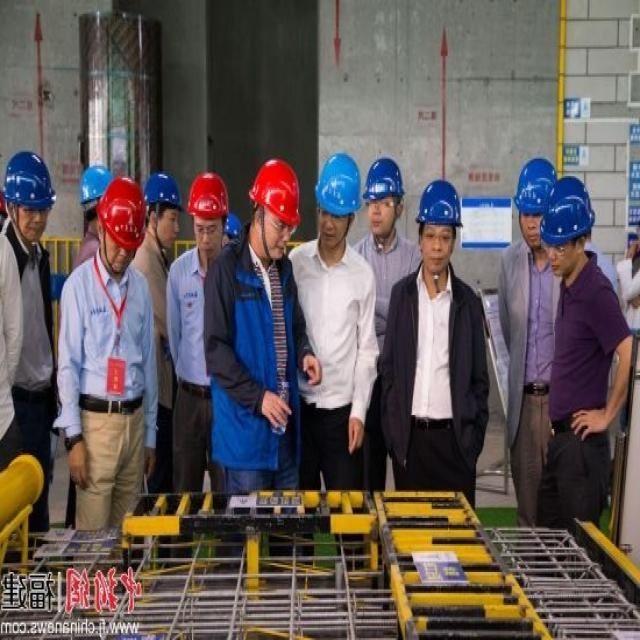Con_Casco: (249, 159, 298, 256), (362, 155, 403, 236)
Sin_Chaleco: (391, 268, 481, 443), (60, 259, 157, 407)
